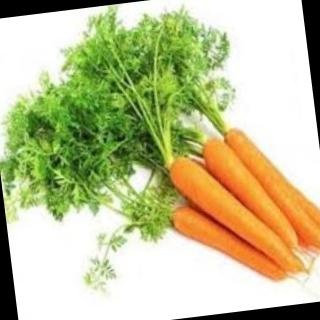Wortel: (155, 124, 308, 290), (191, 121, 305, 263), (163, 191, 290, 297)
